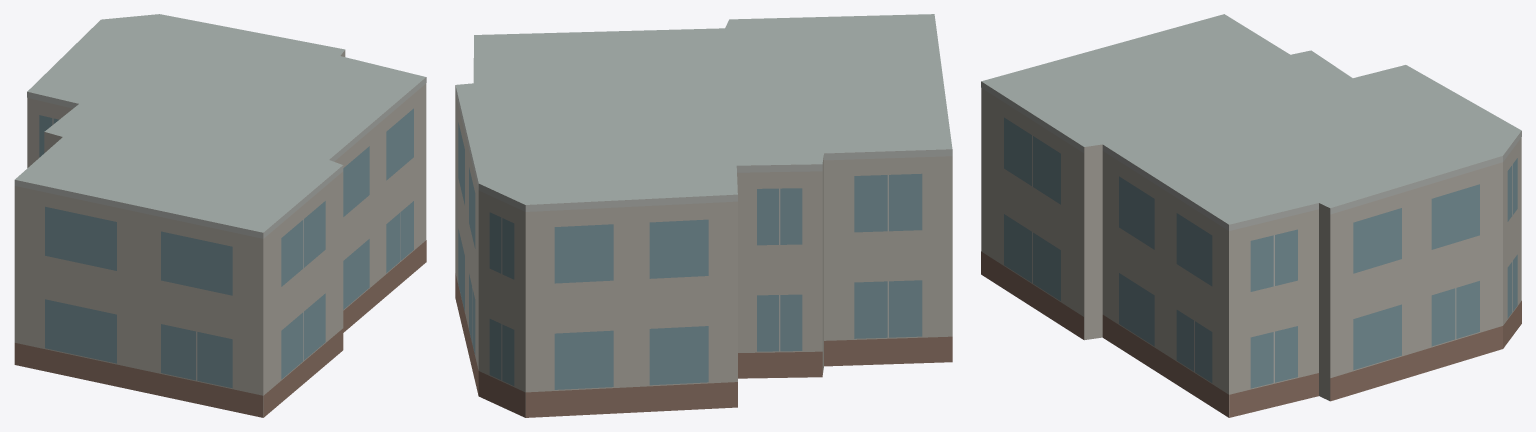
The model's file is survey-upis-32995096.glb.
3 views of the same model, side by side, from view 1: azimuth 30°, elevation 25°; view 2: azimuth 150°, elevation 25°; view 3: azimuth 270°, elevation 25° (orthographic). The views are drawn at different scales.
Visible parts, largest first — view 1: survey-upis-32995096.tmp; view 2: survey-upis-32995096.tmp; view 3: survey-upis-32995096.tmp.
Part boxes in pixels (x1=…): survey-upis-32995096.tmp: x1=14, y1=14, x2=426, y2=417; survey-upis-32995096.tmp: x1=455, y1=14, x2=952, y2=417; survey-upis-32995096.tmp: x1=981, y1=14, x2=1521, y2=417.
Size of the model in its own units: 17.33 by 7.4 by 18.78.
